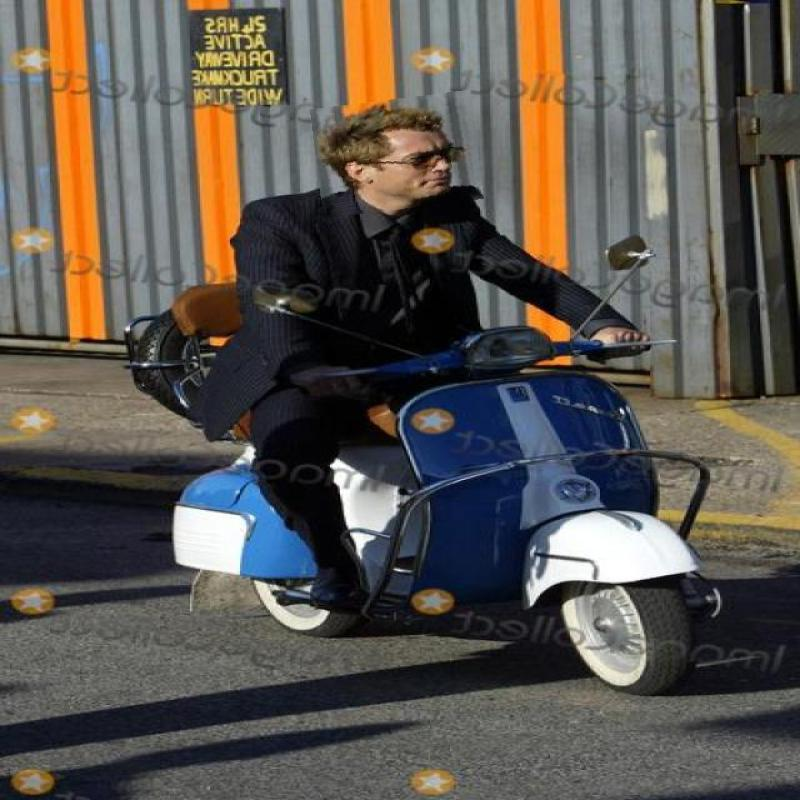nohelmet: (313, 94, 481, 213)
